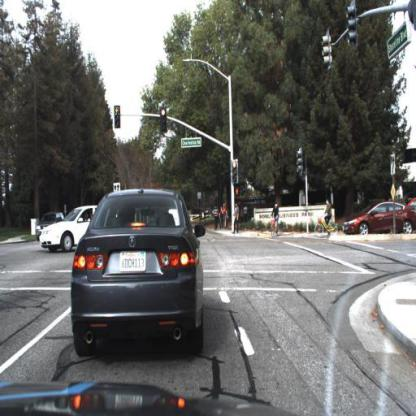biker: (315, 199, 339, 242), (268, 202, 283, 240)
car: (71, 186, 206, 357), (39, 206, 96, 252), (343, 201, 416, 235), (35, 211, 68, 240)
pedestrian: (230, 200, 240, 237), (220, 202, 230, 231), (243, 200, 252, 230), (222, 203, 228, 230), (214, 204, 219, 232), (218, 206, 224, 229)
trafficLight-Red: (232, 159, 239, 182), (161, 108, 167, 133)
trafficLight-RedLeft: (114, 104, 122, 127)
